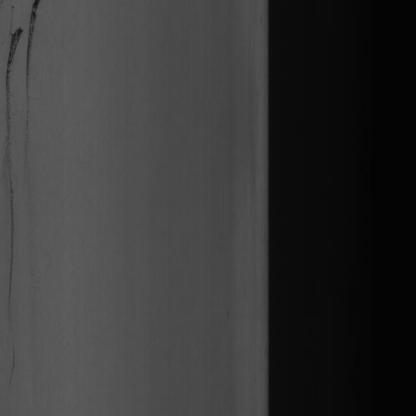inclusion: (0, 22, 21, 230), (21, 0, 39, 125)
